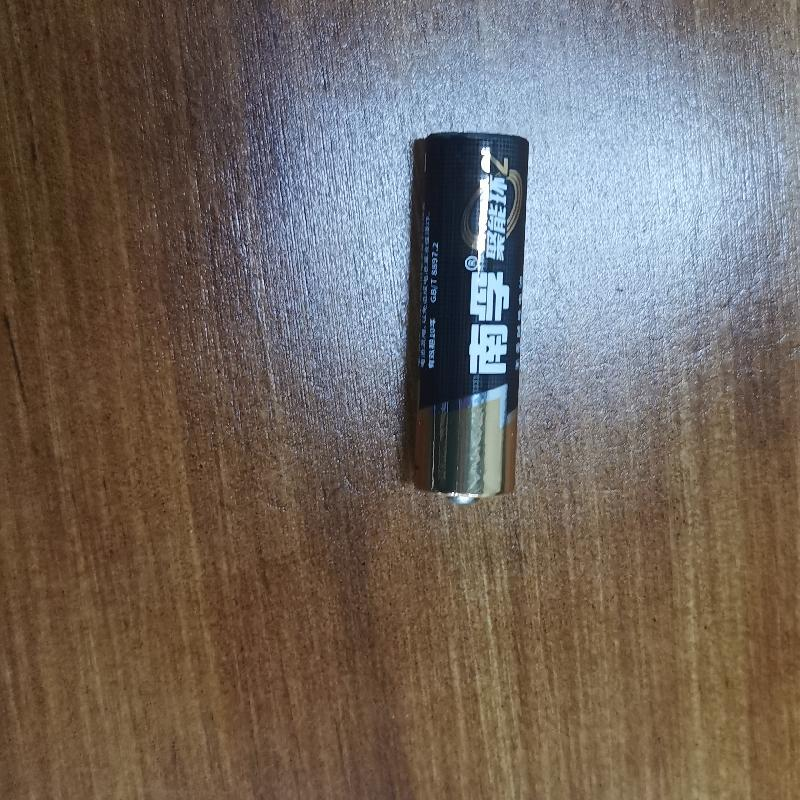battery: (406, 127, 533, 510)
